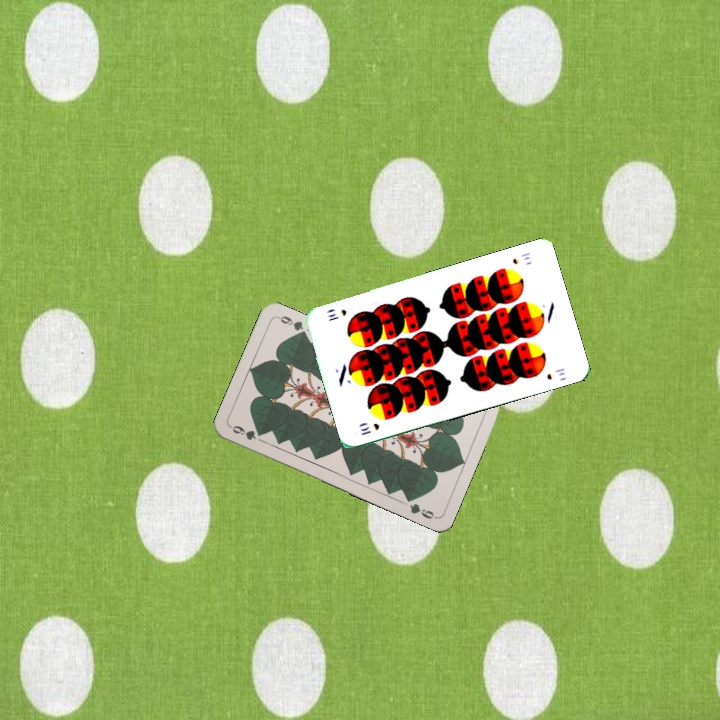G9: (227, 421, 258, 443)
S10: (356, 419, 382, 438), (508, 248, 533, 267)
